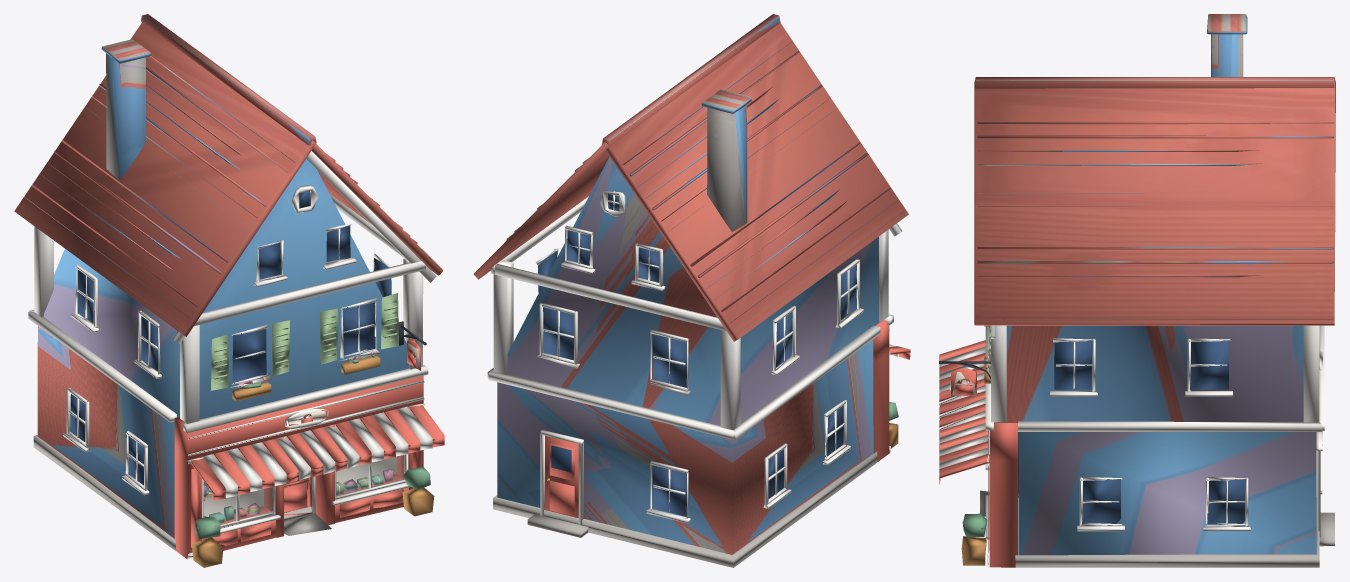
File: shop-front.glb
The picture shows the model from 3 angles, left to right: view 1: azimuth 30°, elevation 25°; view 2: azimuth 150°, elevation 25°; view 3: azimuth 270°, elevation 25°; orthographic projection. The views are drawn at different scales.
Parts seen in each view (by area): view 1: shop-front_body, shop-front_details, shop-front_shop_glass; view 2: shop-front_body, shop-front_details; view 3: shop-front_body, shop-front_details.
Boxes of the visible parts, bbox=[...] form: shop-front_body: bbox=[14, 14, 442, 538]; shop-front_details: bbox=[28, 151, 444, 567]; shop-front_shop_glass: bbox=[204, 455, 404, 524]; shop-front_body: bbox=[473, 14, 908, 554]; shop-front_details: bbox=[487, 190, 910, 567]; shop-front_body: bbox=[974, 14, 1335, 555]; shop-front_details: bbox=[939, 325, 1334, 567].
Bounding box in the file's own units: 7.24 × 10.98 × 8.83.
21 materials, 1 textured.
